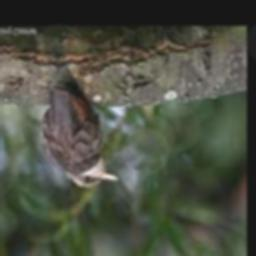Cuckoo: (40, 85, 118, 187)
